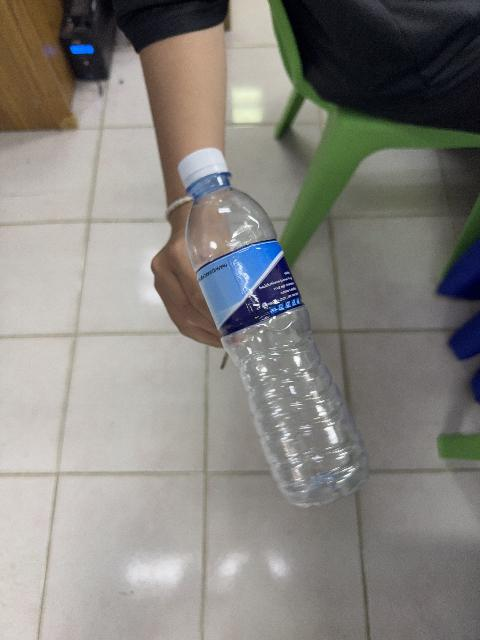bottle: (179, 149, 368, 506)
